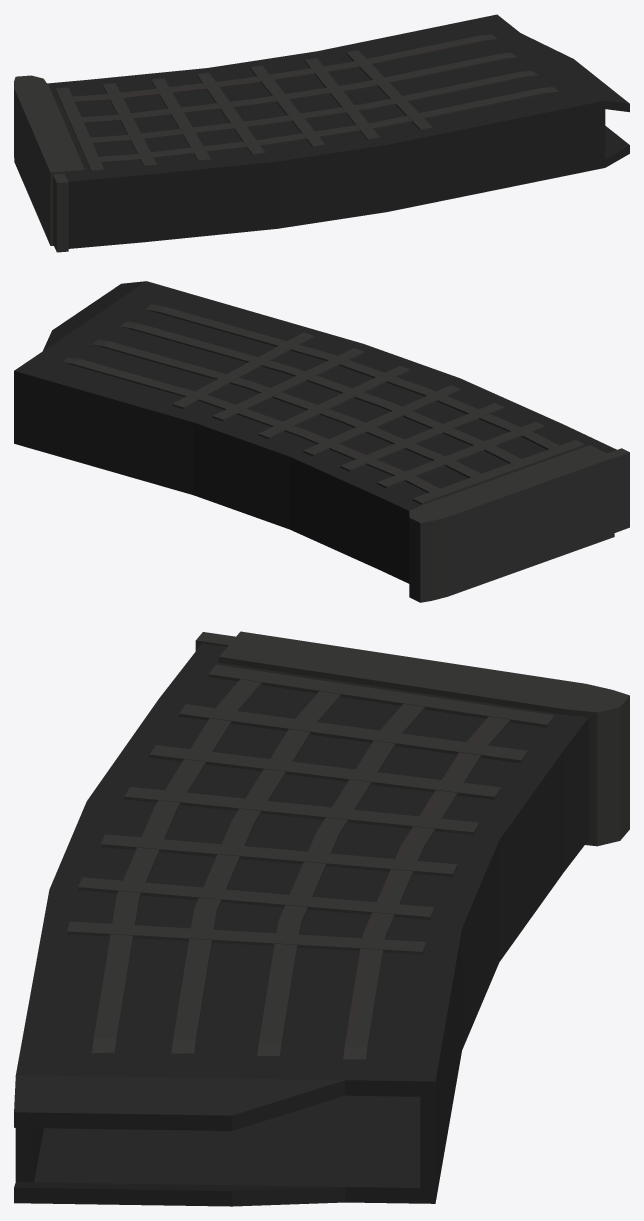
The model's file is EmpireRifleClip.fbx.
3 renders of one model, top to bottom at view 1: azimuth 30°, elevation 25°; view 2: azimuth 150°, elevation 25°; view 3: azimuth 270°, elevation 25°, orthographic. The views are drawn at different scales.
Visible parts, largest first — view 1: AUGClip; view 2: AUGClip; view 3: AUGClip.
Part boxes in pixels (box(x1,y1,x2,y2)): AUGClip: box(14, 14, 629, 252); AUGClip: box(14, 281, 629, 602); AUGClip: box(14, 631, 629, 1206).
Bounding box in the file's own units: 0.1031 × 0.0247 × 0.1846.
